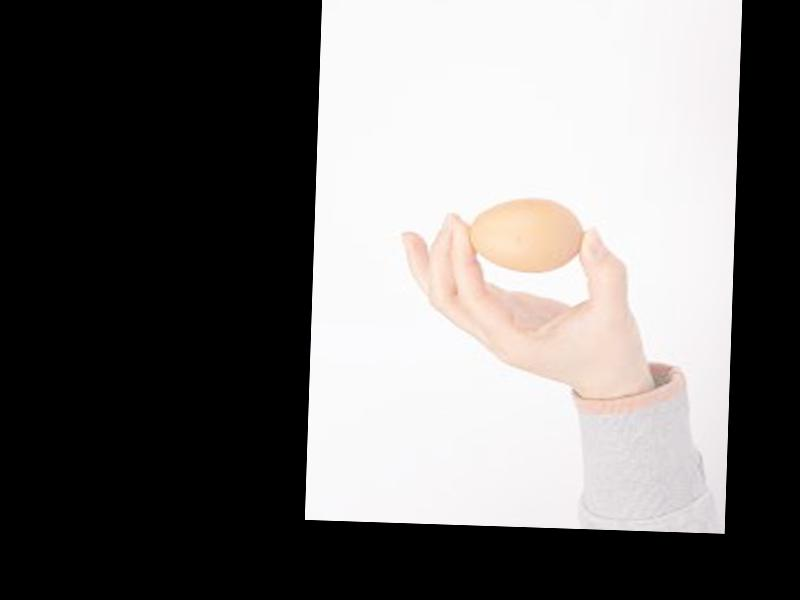Eggs: (465, 196, 581, 272)
